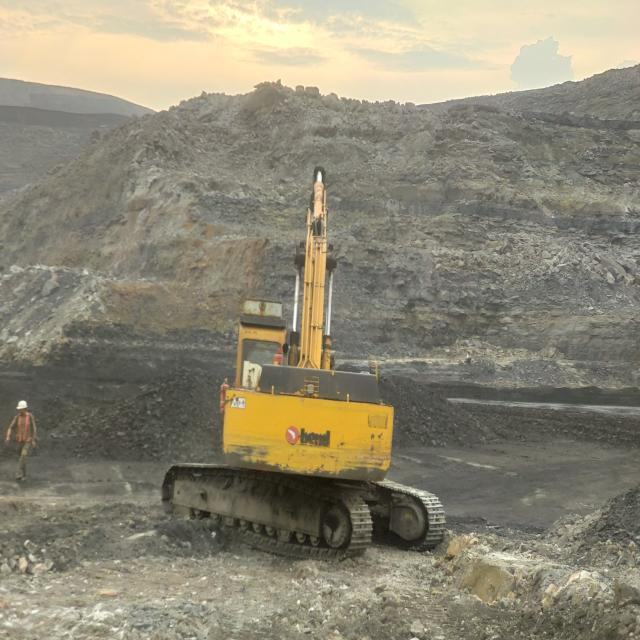excavator: (161, 174, 443, 557)
